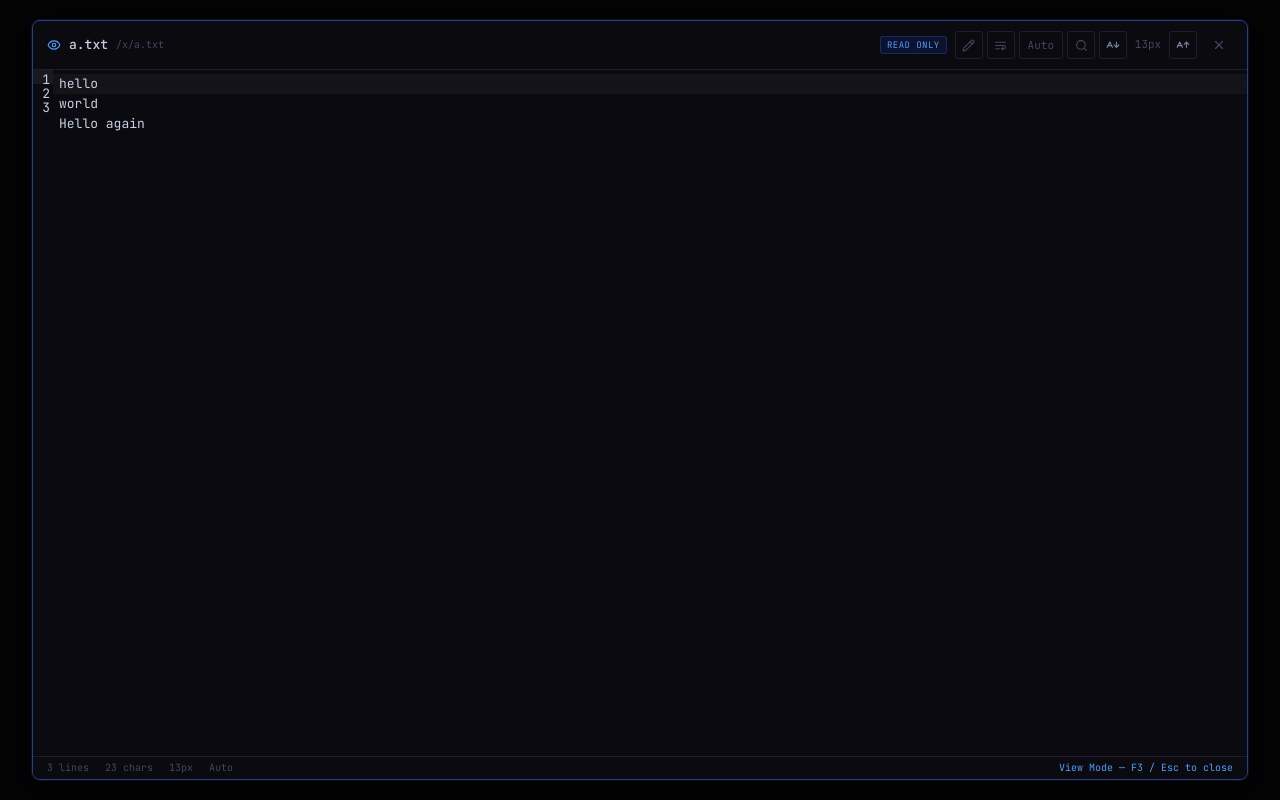
Test: FileViewer 커버리지 (FVC) › FVC-04: Word Wrap 토글 → WRAP 표시, 줄 바꿈 적용 (CodeMirror lineWrapping, Todo #111)
The image size is (1280, 800).
Click the button titled "자동 줄 바꿈 (Word Wrap)".
click(1001, 45)  # box [987,31,1015,59]
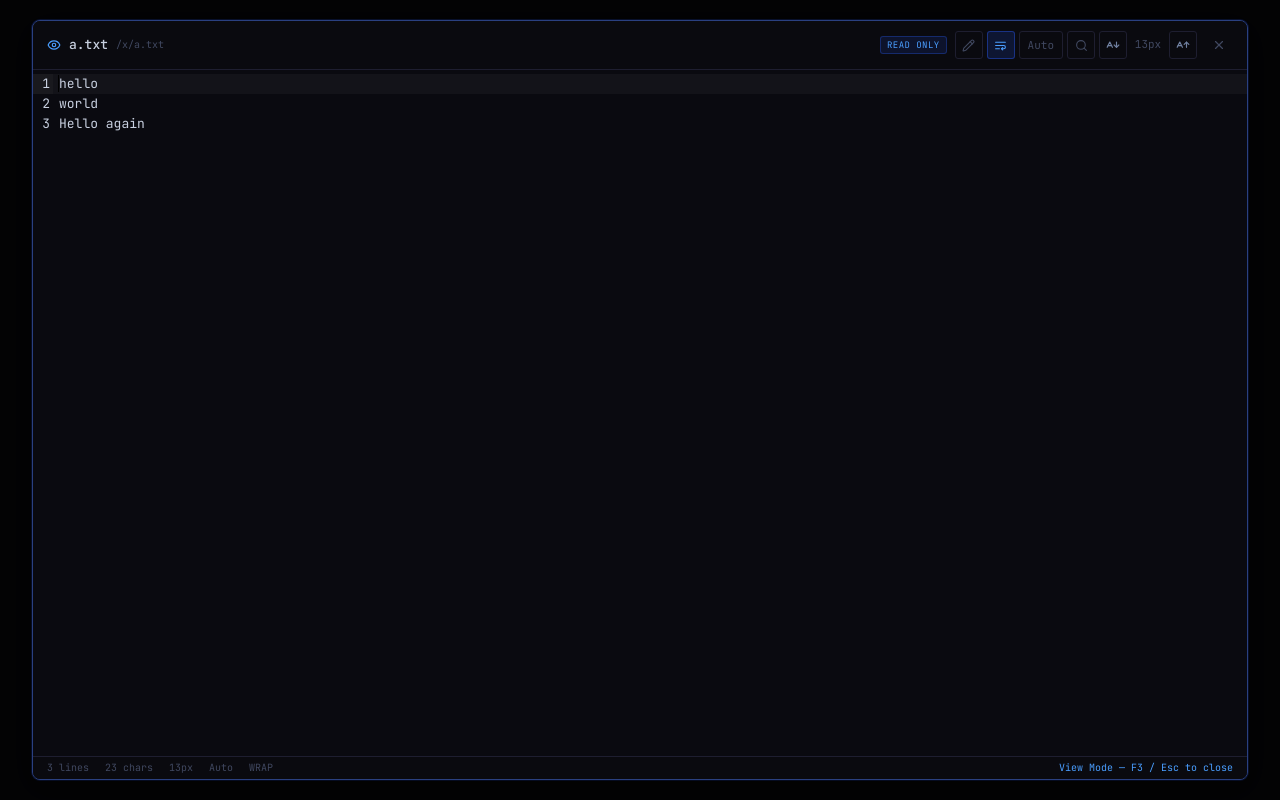
expect the text "WRAP" is shown: met, box [249,761,273,775]
expect the field with class "cm-lineWrapping" is shown: met, box [53,74,1247,132]
